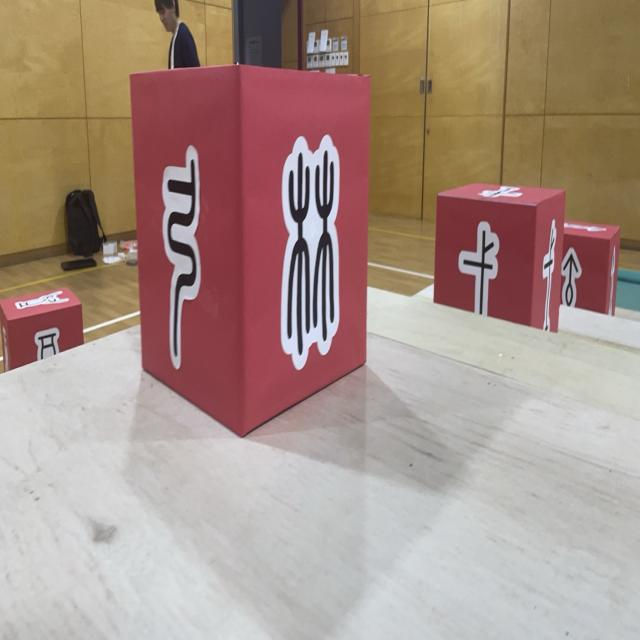12: (560, 246, 582, 306), (608, 244, 618, 315)
2: (280, 136, 342, 372)
4: (162, 144, 202, 372)
8: (16, 290, 69, 312), (34, 326, 60, 361)
9: (460, 218, 500, 316), (542, 218, 558, 332), (478, 182, 522, 200)
fighter: (130, 64, 370, 438), (435, 182, 565, 334), (0, 284, 82, 371), (557, 218, 621, 316)
